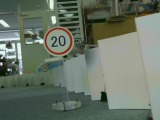speed_20: (42, 26, 74, 56)
